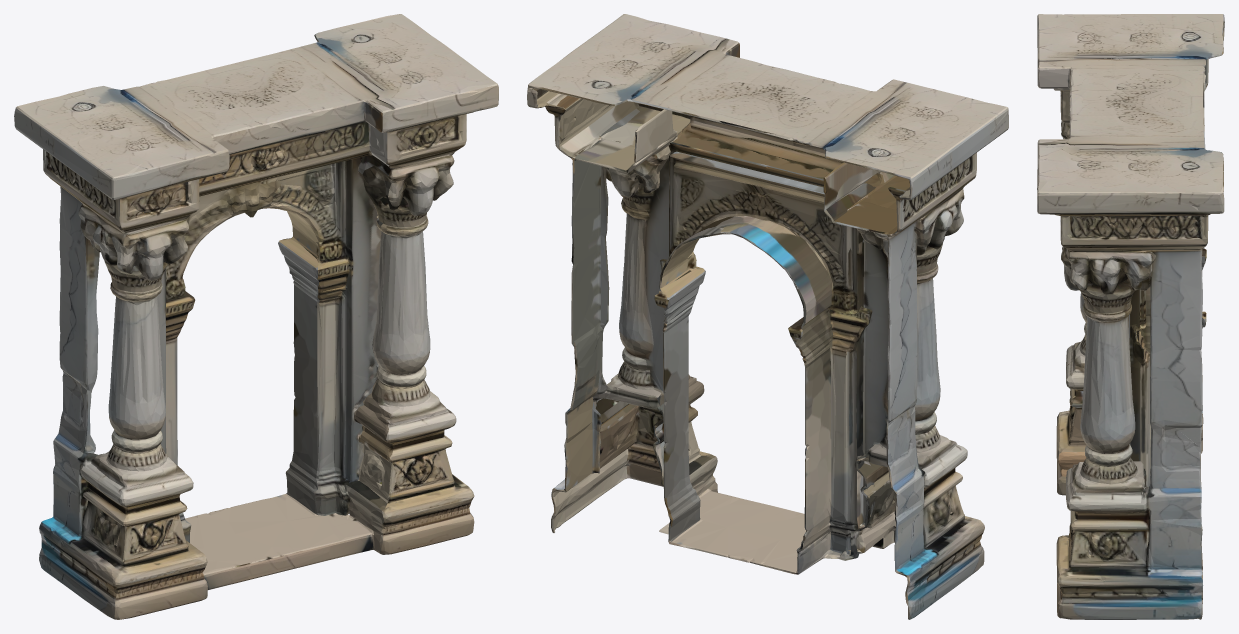
Rendered from ornate-stone-door-frame-optimized.glb.
3 views of the same model, side by side, from view 1: azimuth 30°, elevation 25°; view 2: azimuth 150°, elevation 25°; view 3: azimuth 270°, elevation 25° (orthographic). The views are drawn at different scales.
Visible parts, largest first — view 1: 4c7586f7-f9e2-4846-ad19-9ce1b62208cd_texturing.obj; view 2: 4c7586f7-f9e2-4846-ad19-9ce1b62208cd_texturing.obj; view 3: 4c7586f7-f9e2-4846-ad19-9ce1b62208cd_texturing.obj.
Boxes of the visible parts, box(x1,y1,x2,y2) form: 4c7586f7-f9e2-4846-ad19-9ce1b62208cd_texturing.obj: box(14, 14, 498, 619); 4c7586f7-f9e2-4846-ad19-9ce1b62208cd_texturing.obj: box(527, 14, 1008, 619); 4c7586f7-f9e2-4846-ad19-9ce1b62208cd_texturing.obj: box(1037, 14, 1224, 619).
Bounding box in the file's own units: 3.38 × 3.8 × 1.49.
1 material, 1 textured.
